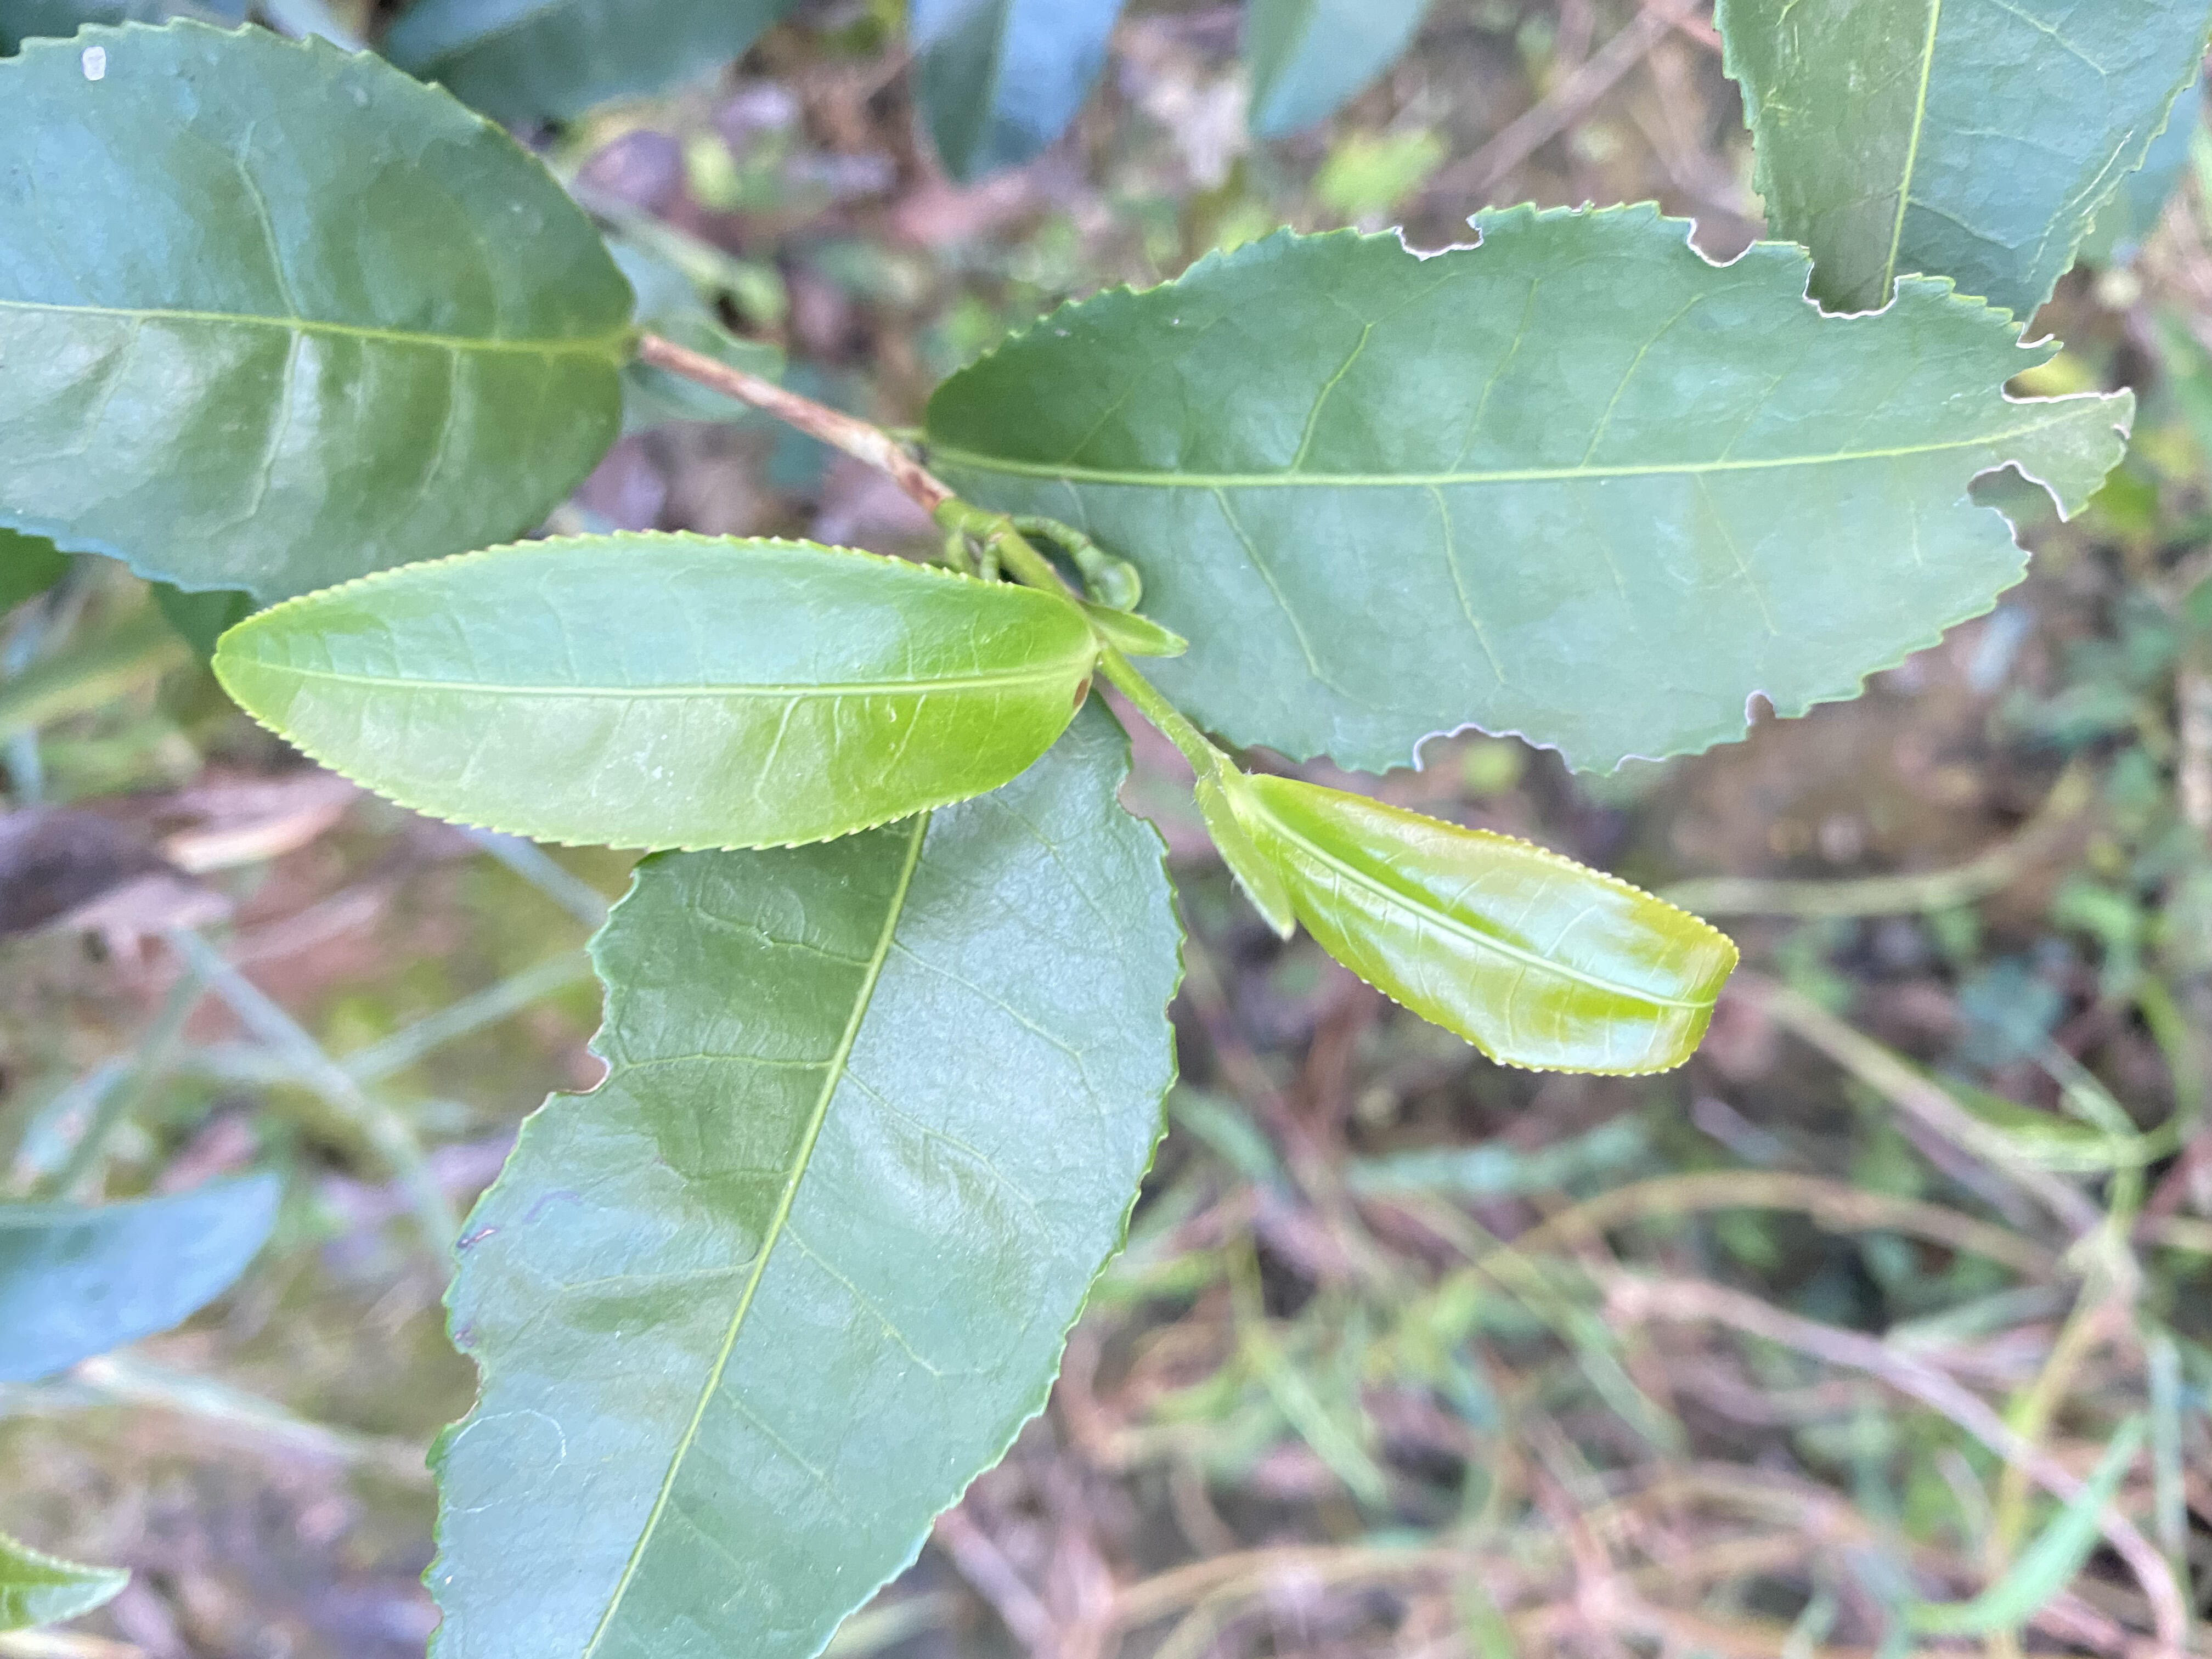chihuo_high: (421, 690, 1191, 1656), (916, 200, 2139, 781)
healthy: (207, 525, 1087, 854), (1244, 770, 1740, 1080)
tanju_low: (2, 12, 639, 603)
